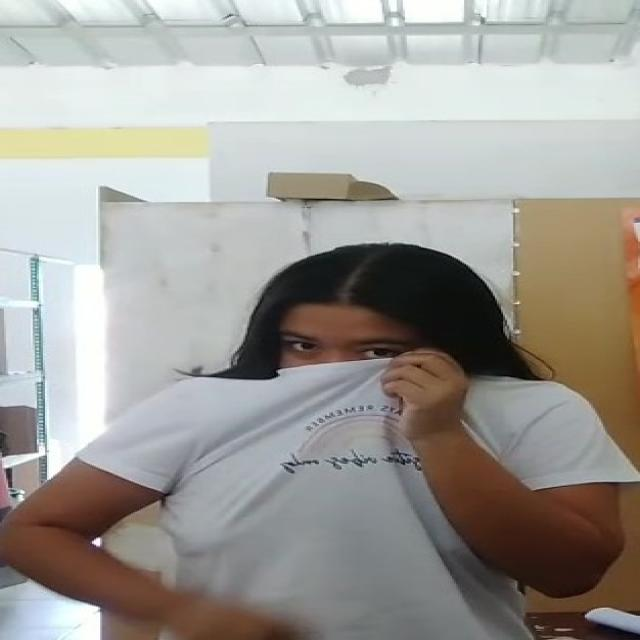8_ropa_rostro: (173, 346, 507, 463)
